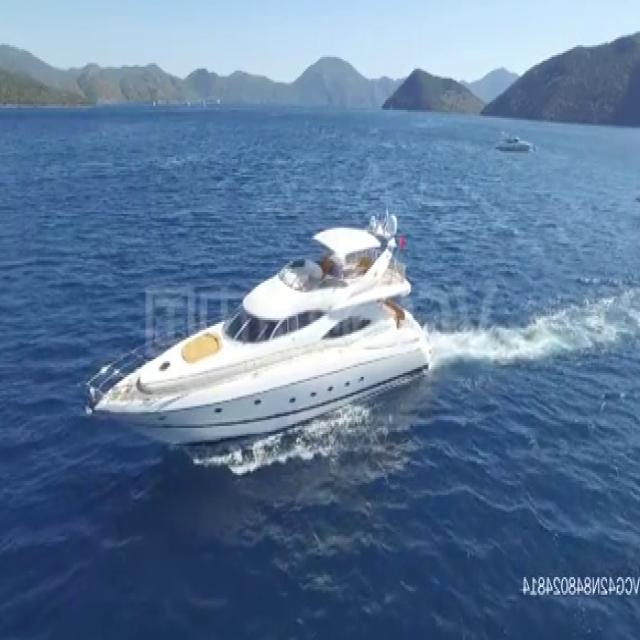houseboat: (89, 208, 427, 444), (496, 124, 538, 152)
